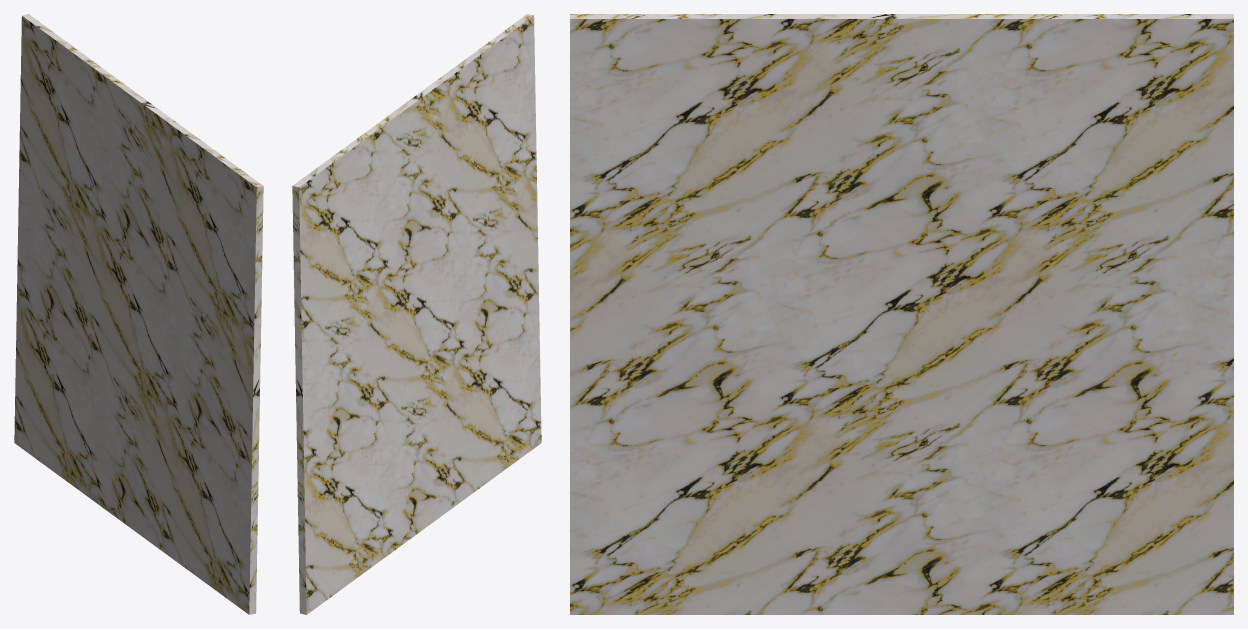
File: LJS - 110 UV Board.glb
The picture shows the model from 3 angles, left to right: view 1: azimuth 30°, elevation 25°; view 2: azimuth 150°, elevation 25°; view 3: azimuth 270°, elevation 25°; orthographic projection. The views are drawn at different scales.
Parts seen in each view (by area): view 1: Plane; view 2: Plane; view 3: Plane.
Part boxes in pixels (box(x1,y1,x2,y2)): Plane: box(14, 14, 263, 614); Plane: box(292, 14, 541, 614); Plane: box(570, 14, 1233, 614).
Size of the model in its own units: 0.0706 by 2 by 2.
1 material, 1 textured.
